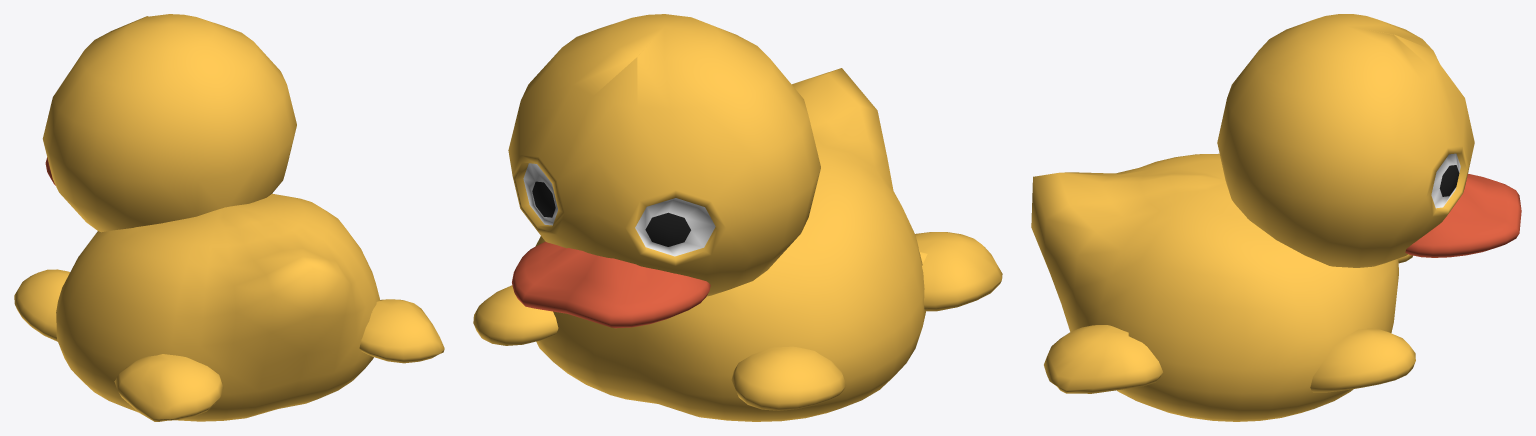
File: duck1_car.glb
3 views of the same model, side by side, from view 1: azimuth 30°, elevation 25°; view 2: azimuth 150°, elevation 25°; view 3: azimuth 270°, elevation 25° (orthographic). The views are drawn at different scales.
Parts seen in each view (by area): view 1: Sphere; view 2: Sphere; view 3: Sphere.
Boxes of the visible parts, x1,y1,x2,y2 form: Sphere: [14, 14, 444, 421]; Sphere: [473, 14, 1002, 421]; Sphere: [1031, 14, 1521, 421].
Bounding box in the file's own units: 2.06 × 2.07 × 2.62.
1 material, 1 textured.
